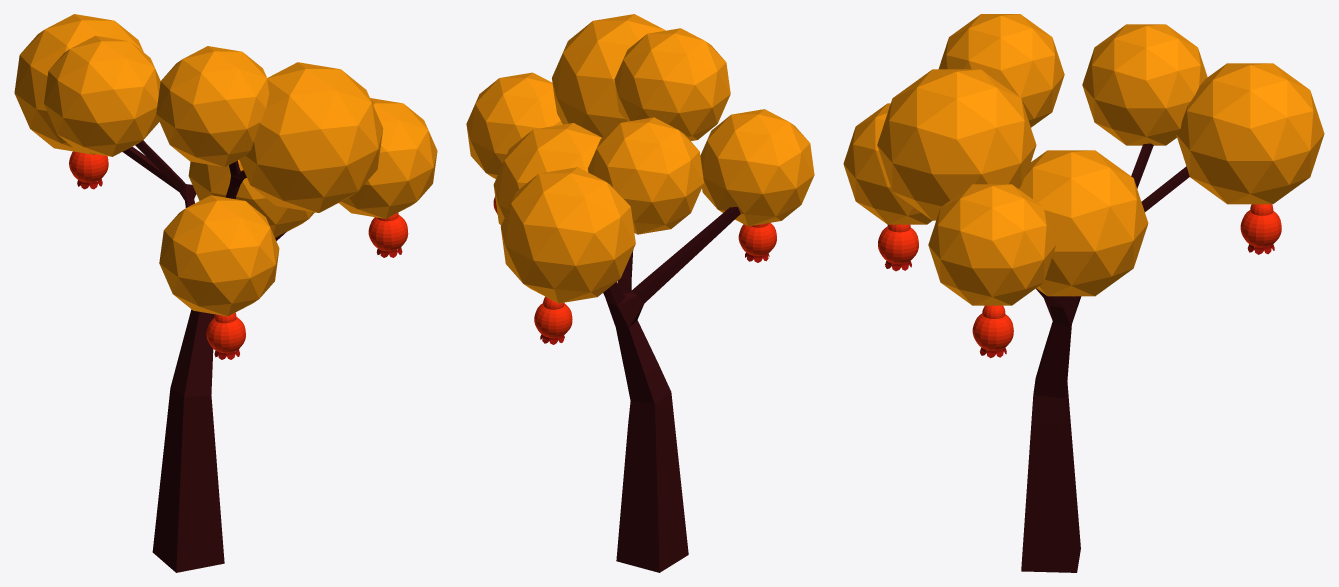
File: Orange_Tree.fbx
The picture shows the model from 3 angles, left to right: view 1: azimuth 30°, elevation 25°; view 2: azimuth 150°, elevation 25°; view 3: azimuth 270°, elevation 25°; orthographic projection. The views are drawn at different scales.
Parts seen in each view (by area): view 1: Icosphere.012, Cube.001, Icosphere.016, Icosphere.014, Icosphere.010, Icosphere.013, Icosphere.015, Icosphere.011, Sphere.014, Sphere.017, Sphere.016; view 2: Cube.001, Icosphere.015, Icosphere.016, Icosphere.010, Icosphere.014, Icosphere.012, Icosphere.013, Icosphere.011, Sphere.016, Sphere.014; view 3: Icosphere.012, Icosphere.015, Icosphere.011, Cube.001, Icosphere.013, Icosphere.014, Icosphere.010, Icosphere.016, Sphere.017, Sphere.016, Sphere.014.
Part boxes in pixels (left/top/right/bottom): Icosphere.012: left=239, top=62, right=383, bottom=212; Cube.001: left=122, top=140, right=287, bottom=572; Icosphere.016: left=159, top=195, right=279, bottom=316; Icosphere.014: left=44, top=35, right=160, bottom=156; Icosphere.010: left=156, top=46, right=269, bottom=167; Icosphere.013: left=339, top=98, right=437, bottom=218; Icosphere.015: left=14, top=14, right=143, bottom=154; Icosphere.011: left=188, top=160, right=314, bottom=237; Sphere.014: left=206, top=312, right=245, bottom=359; Sphere.017: left=368, top=213, right=408, bottom=257; Sphere.016: left=69, top=151, right=108, bottom=189; Cube.001: left=603, top=207, right=740, bottom=572; Icosphere.015: left=500, top=167, right=635, bottom=303; Icosphere.016: left=700, top=109, right=814, bottom=226; Icosphere.010: left=614, top=28, right=730, bottom=140; Icosphere.014: left=588, top=117, right=703, bottom=234; Icosphere.012: left=552, top=14, right=665, bottom=137; Icosphere.013: left=466, top=72, right=562, bottom=178; Icosphere.011: left=493, top=123, right=601, bottom=225; Sphere.016: left=534, top=296, right=572, bottom=344; Sphere.014: left=738, top=223, right=776, bottom=262; Icosphere.012: left=877, top=69, right=1036, bottom=220; Icosphere.015: left=1176, top=63, right=1324, bottom=204; Icosphere.011: left=1019, top=150, right=1148, bottom=296; Cube.001: left=1021, top=143, right=1189, bottom=572; Icosphere.013: left=928, top=184, right=1055, bottom=305; Icosphere.014: left=1082, top=24, right=1207, bottom=145; Icosphere.010: left=938, top=14, right=1064, bottom=127; Icosphere.016: left=843, top=103, right=932, bottom=224; Sphere.017: left=972, top=305, right=1013, bottom=358; Sphere.016: left=1240, top=204, right=1281, bottom=254; Sphere.014: left=878, top=224, right=918, bottom=271.
Size of the model in its own units: 565 by 941 by 752.
